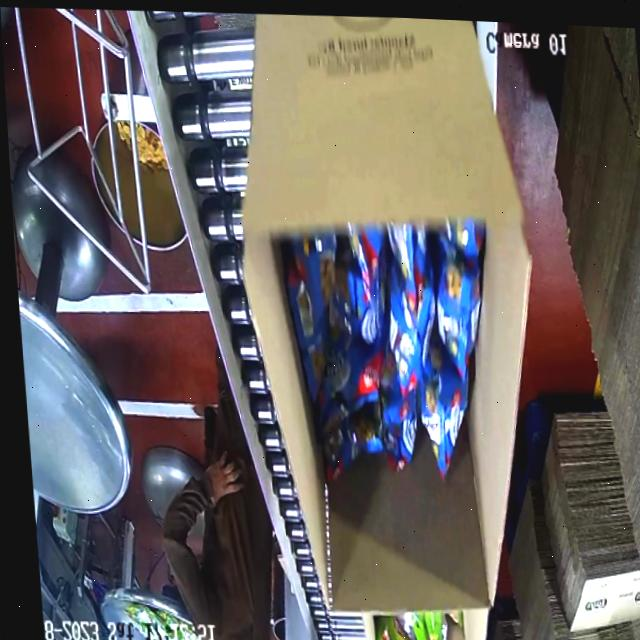PAPRIKA: (297, 214, 505, 494)
